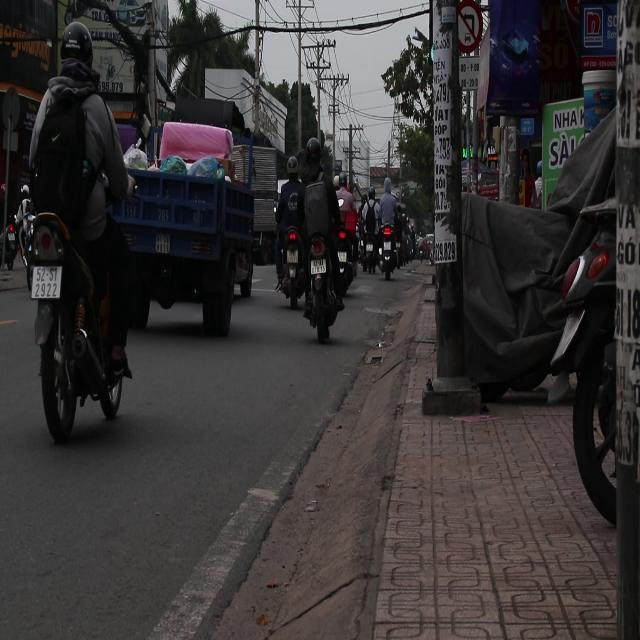motorbike: (26, 201, 133, 459), (304, 220, 348, 338), (281, 220, 307, 324)
truck: (115, 116, 256, 337)
